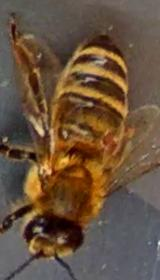varroa_mite: (92, 124, 126, 158)
